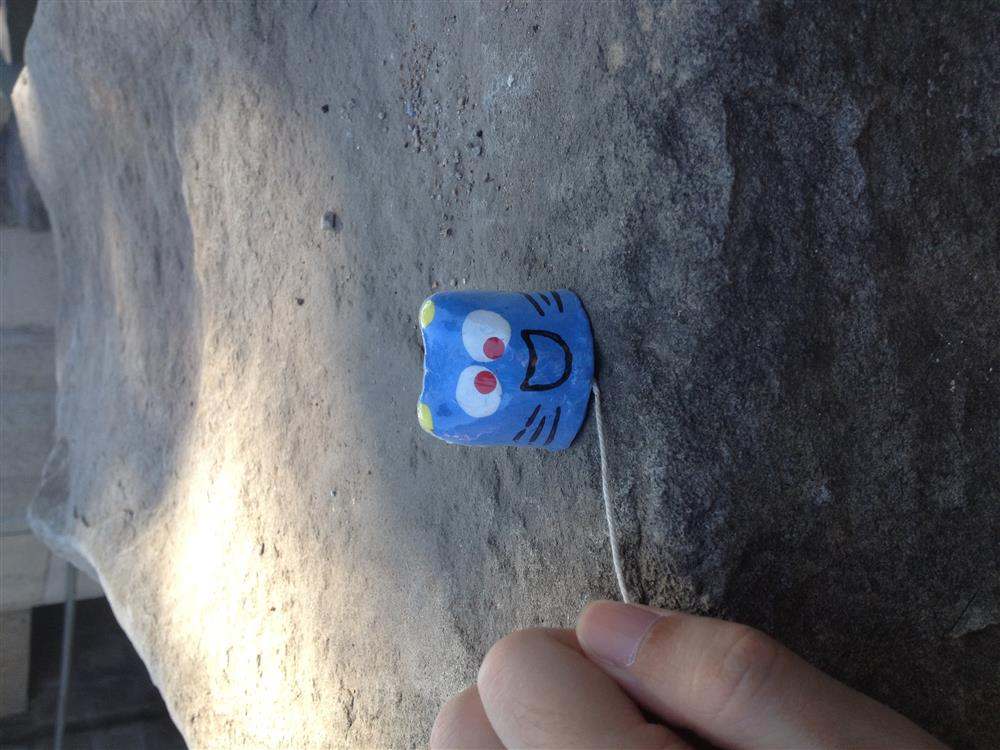toy_cat: (398, 274, 608, 461)
